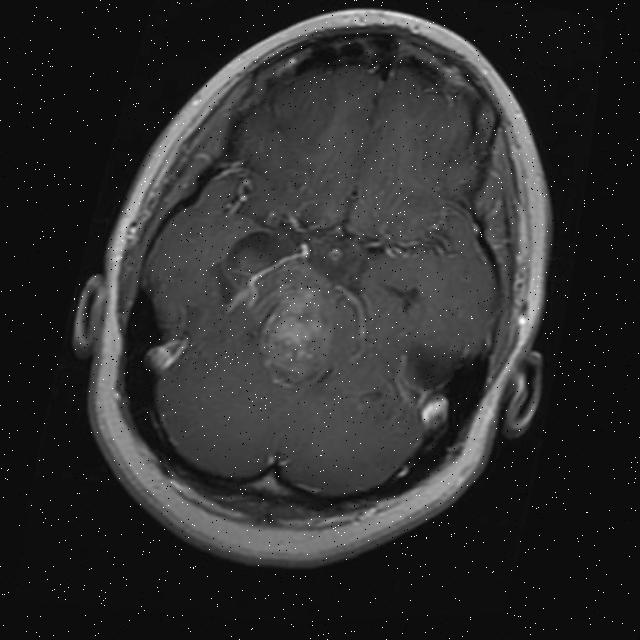Glioma: (253, 279, 340, 382)
